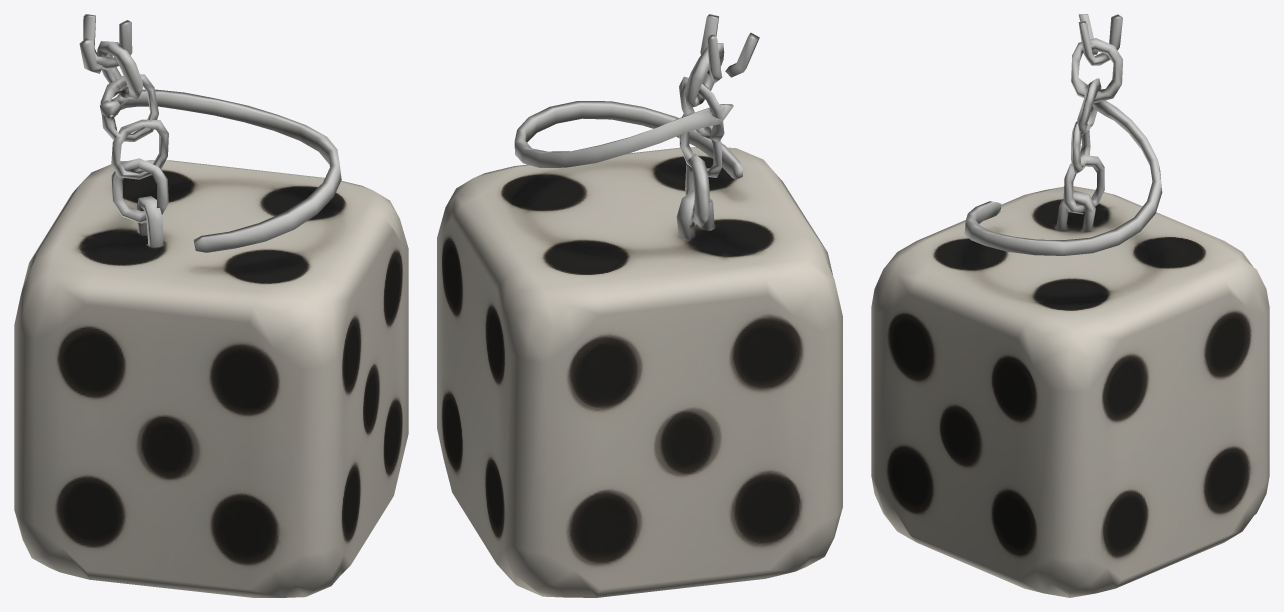
Rendered from charm_dado.glb.
3 views of the same model, side by side, from view 1: azimuth 30°, elevation 25°; view 2: azimuth 150°, elevation 25°; view 3: azimuth 270°, elevation 25° (orthographic). The views are drawn at different scales.
Visible parts, largest first — view 1: tripo_node_9e547efb-7b81-4452-8e71-234b9ac9c8b0; view 2: tripo_node_9e547efb-7b81-4452-8e71-234b9ac9c8b0; view 3: tripo_node_9e547efb-7b81-4452-8e71-234b9ac9c8b0.
Boxes of the visible parts, x1,y1,x2,y2 form: tripo_node_9e547efb-7b81-4452-8e71-234b9ac9c8b0: (14, 14, 408, 597); tripo_node_9e547efb-7b81-4452-8e71-234b9ac9c8b0: (437, 14, 842, 597); tripo_node_9e547efb-7b81-4452-8e71-234b9ac9c8b0: (871, 14, 1269, 597).
Bounding box in the file's own units: 0.7168 × 0.998 × 0.7168.
1 material, 1 textured.
